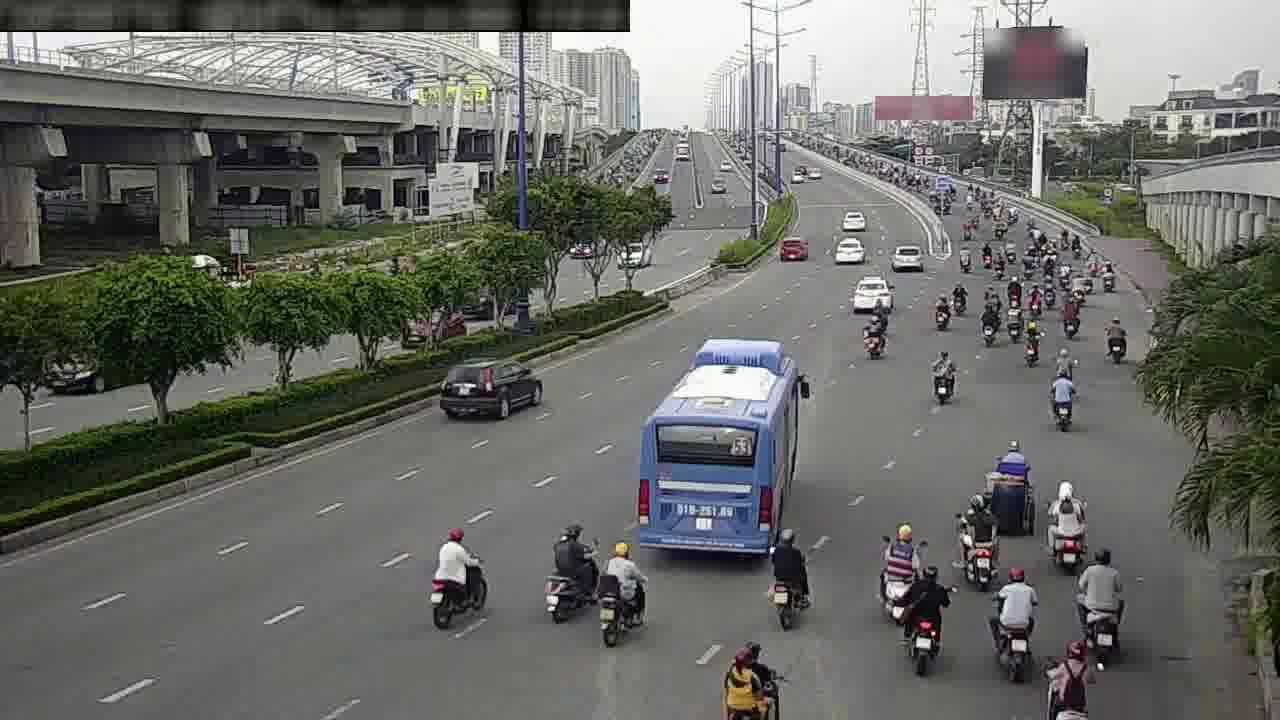14: (651, 349, 777, 557)
container: (444, 356, 543, 418), (851, 270, 894, 312), (888, 236, 924, 274), (776, 229, 809, 262)
motorbike: (543, 510, 599, 622), (427, 524, 484, 625), (1076, 547, 1125, 657), (720, 634, 782, 715), (992, 567, 1037, 676), (873, 512, 921, 613), (599, 541, 646, 641), (765, 522, 811, 622), (903, 564, 944, 666), (988, 449, 1034, 537), (1038, 634, 1088, 714), (1045, 480, 1086, 568), (961, 503, 1001, 586), (1098, 313, 1133, 369), (1046, 366, 1078, 426), (929, 349, 956, 403), (1056, 292, 1085, 338), (1018, 319, 1044, 365), (862, 312, 887, 359), (975, 302, 999, 347), (929, 289, 953, 332), (1002, 300, 1025, 342), (952, 276, 970, 312), (982, 278, 1001, 311), (1004, 276, 1022, 310), (953, 241, 972, 272)
